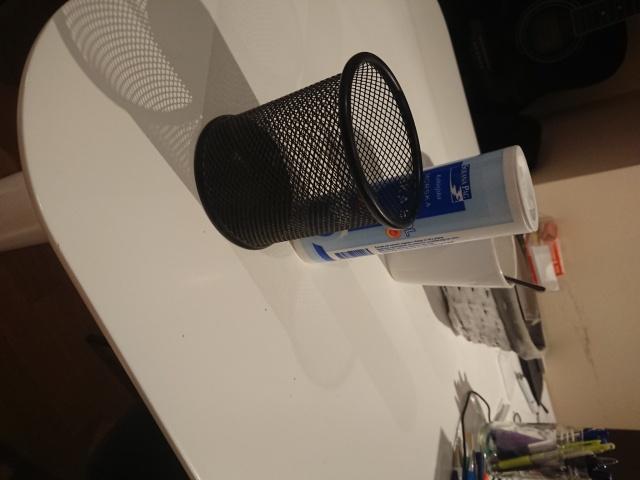Solana Pag Fine Sea Salt 250g: (286, 141, 543, 267)
